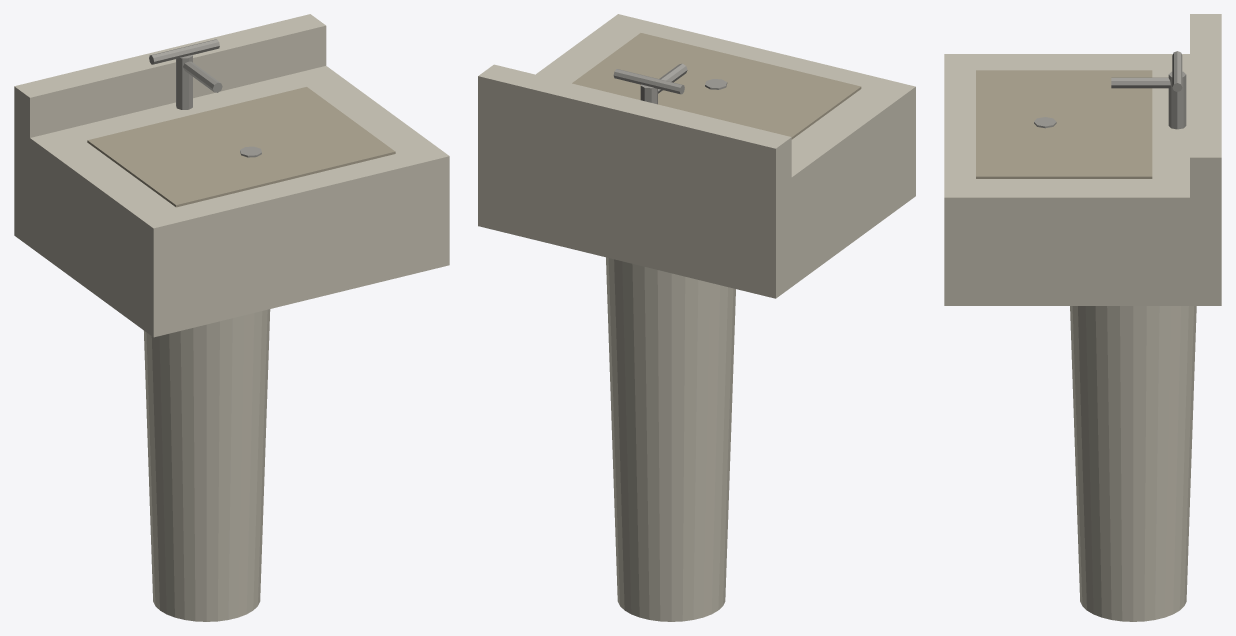
The model's file is basin-pedestal.glb.
The picture shows the model from 3 angles, left to right: view 1: azimuth 30°, elevation 25°; view 2: azimuth 150°, elevation 25°; view 3: azimuth 270°, elevation 25°; orthographic projection.
Parts seen in each view (by area): view 1: enamel, plastic-light, brushed; view 2: enamel, plastic-light, brushed; view 3: enamel, plastic-light, brushed.
Boxes of the visible parts, bbox=[...] form: enamel: bbox=[14, 14, 449, 621]; plastic-light: bbox=[87, 87, 395, 207]; brushed: bbox=[149, 39, 261, 157]; enamel: bbox=[478, 14, 915, 621]; plastic-light: bbox=[572, 33, 861, 139]; brushed: bbox=[613, 63, 727, 104]; enamel: bbox=[944, 14, 1221, 621]; plastic-light: bbox=[976, 70, 1152, 178]; brushed: bbox=[1034, 51, 1186, 129].
Bounding box in the file's own units: 0.54 × 0.933 × 0.44.
